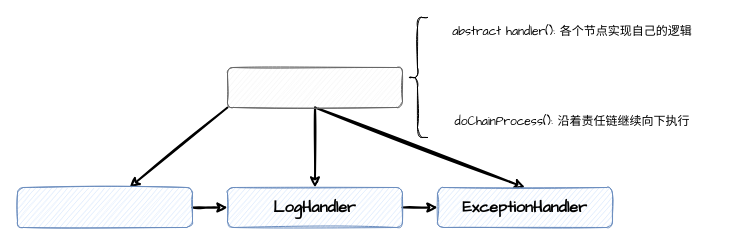
Some shapes in this 735 by 245 pixel diagram are drawn without their labels. Each missing label, with the centre of its shape:
"AbstractHandler" belongs at (314,87).
"EncAndDecHandler" belongs at (104,207).
